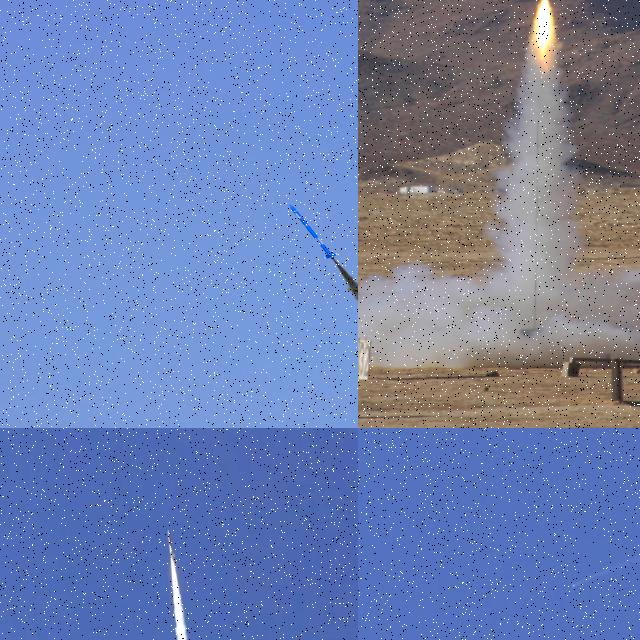Rocket: (288, 203, 339, 260), (167, 527, 175, 560), (572, 585, 574, 587)
